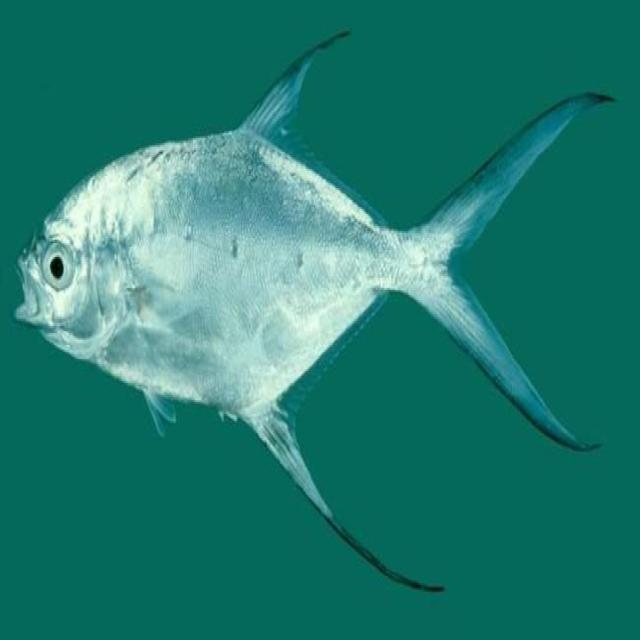ikan: (12, 21, 620, 609)
